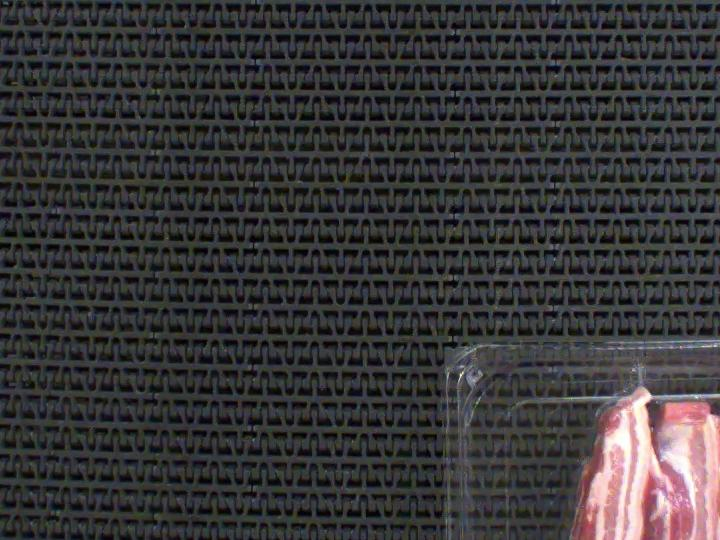packaging-error: (612, 354, 664, 395)
